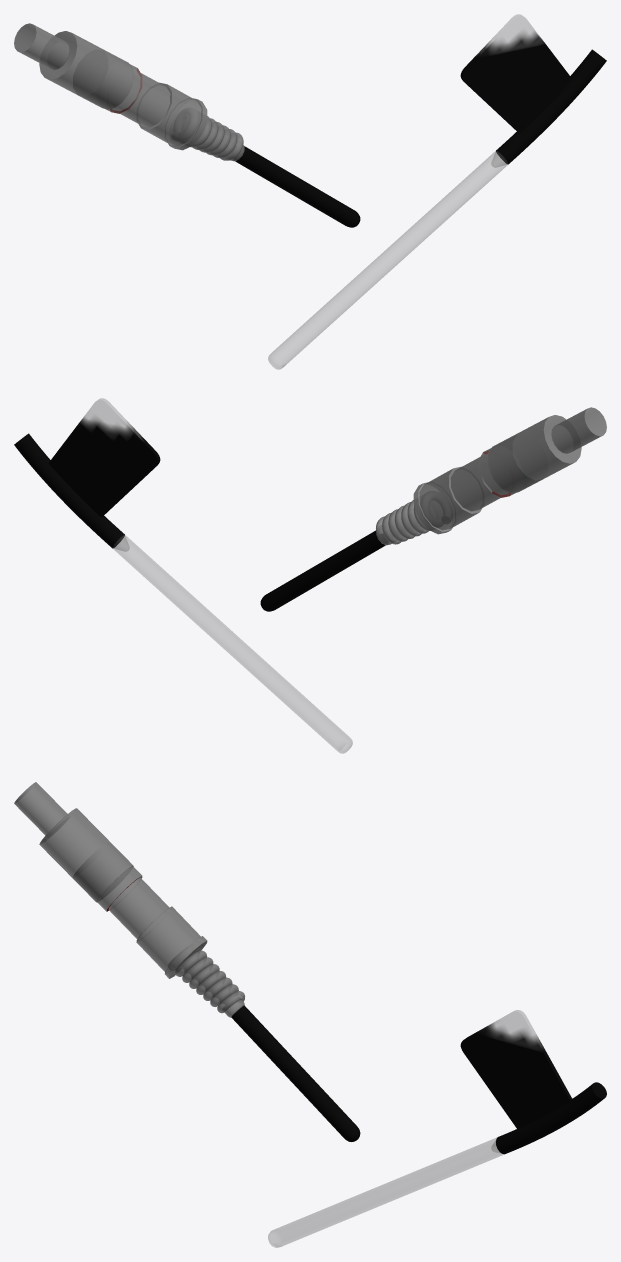
The model's file is 一次性采血针.glb.
3 renders of one model, top to bottom at view 1: azimuth 30°, elevation 25°; view 2: azimuth 150°, elevation 25°; view 3: azimuth 330°, elevation 25°, orthographic.
Parts seen in each view (by area): view 1: Box001, Cylinder001, Cylinder005, 对象002, Cylinder003, Line003, Helix001, 对象001; view 2: Box001, Cylinder001, Cylinder005, 对象002, Cylinder003, Line003, Helix001, 对象001; view 3: Box001, Cylinder001, Cylinder005, 对象002, Cylinder003, Helix001, Line003, 对象001.
Part boxes in pixels (bbox=[...]): Box001: bbox=[460, 14, 572, 133]; Cylinder001: bbox=[73, 49, 207, 150]; Cylinder005: bbox=[268, 151, 507, 369]; 对象002: bbox=[39, 31, 133, 109]; Cylinder003: bbox=[235, 146, 360, 227]; Line003: bbox=[496, 49, 606, 164]; Helix001: bbox=[171, 107, 243, 160]; 对象001: bbox=[14, 23, 69, 69]; Box001: bbox=[48, 398, 160, 517]; Cylinder001: bbox=[413, 433, 547, 534]; Cylinder005: bbox=[113, 535, 352, 753]; 对象002: bbox=[487, 415, 581, 493]; Cylinder003: bbox=[260, 530, 385, 611]; Line003: bbox=[14, 433, 124, 548]; Helix001: bbox=[376, 491, 452, 544]; 对象001: bbox=[551, 407, 606, 453]; Box001: bbox=[460, 1010, 572, 1129]; Cylinder001: bbox=[73, 842, 207, 978]; Cylinder005: bbox=[268, 1137, 503, 1247]; 对象002: bbox=[39, 808, 133, 902]; Cylinder003: bbox=[231, 1005, 360, 1141]; Helix001: bbox=[168, 944, 245, 1013]; Line003: bbox=[496, 1082, 606, 1154]; 对象001: bbox=[14, 782, 69, 837].
Bounding box in the file's own units: 0.00896 × 0.00588 × 0.000711.
1 material, 1 textured.
